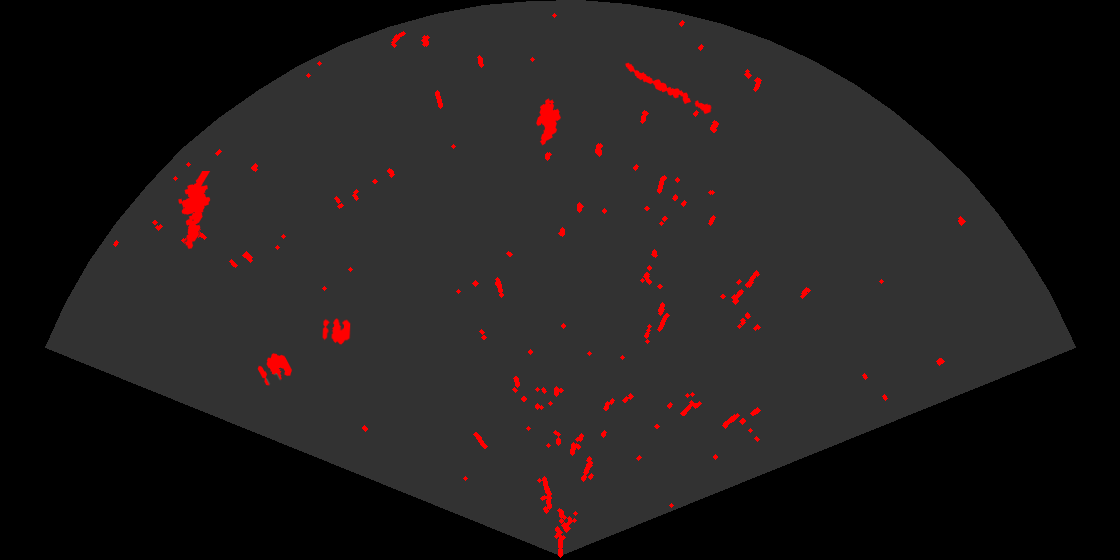AUV: (535, 97, 562, 147)
ball: (256, 352, 294, 387), (321, 317, 352, 346)
chain: (624, 61, 714, 116)
frogman: (177, 171, 212, 250)
